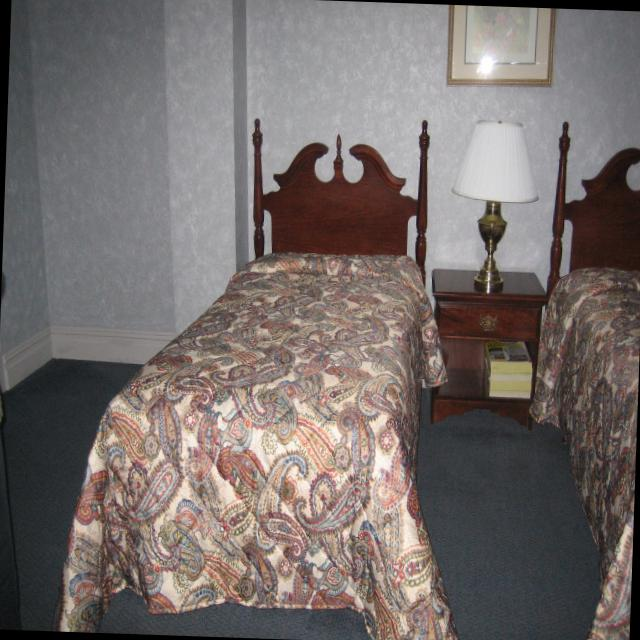---: (55, 247, 461, 640)
bed -occluded-: (52, 118, 462, 639), (531, 266, 638, 640)
drawers crop: (431, 264, 546, 424)
floor -X: (416, 409, 604, 640), (0, 372, 125, 625), (110, 592, 377, 640)
lamp: (443, 112, 542, 209)
lamp crop: (450, 118, 538, 291)
picture occluded: (447, 10, 554, 82)
shadow: (233, 5, 246, 244)
wall clock: (5, 0, 640, 389)
